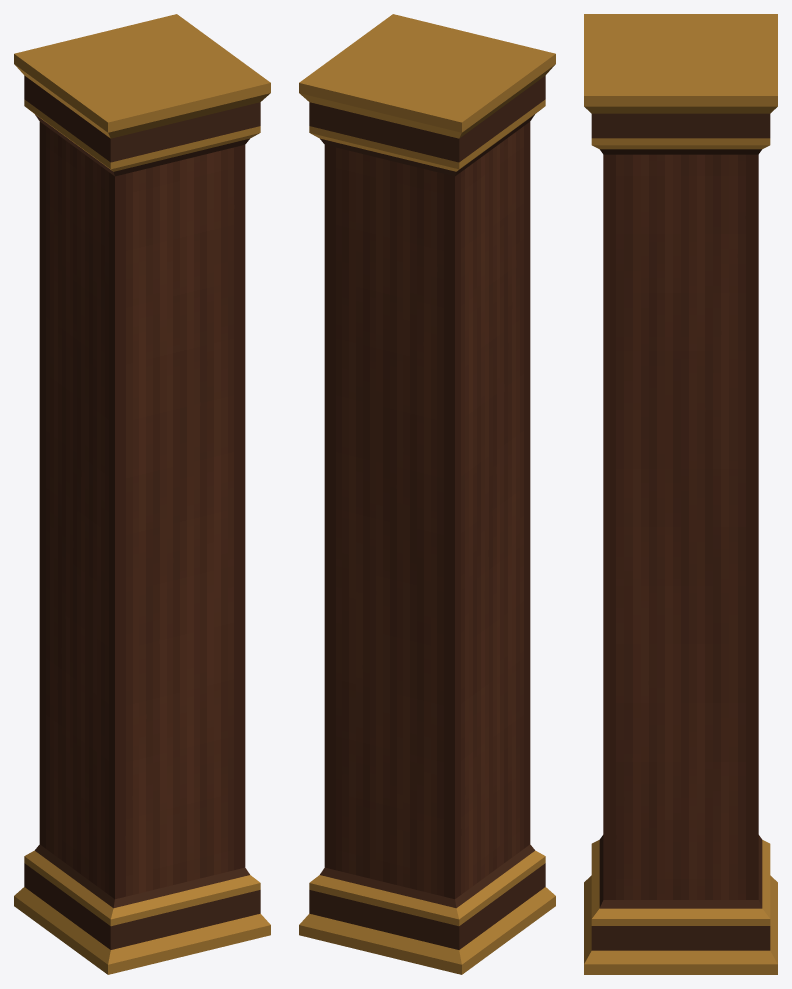
File: wooden_support_column.gltf
The picture shows the model from 3 angles, left to right: view 1: azimuth 30°, elevation 25°; view 2: azimuth 150°, elevation 25°; view 3: azimuth 270°, elevation 25°; orthographic projection. The views are drawn at different scales.
Parts seen in each view (by area): view 1: WoodenSupportColumn; view 2: WoodenSupportColumn; view 3: WoodenSupportColumn.
Boxes of the visible parts, box(x1,y1,x2,y2) form: WoodenSupportColumn: box(14, 14, 270, 974); WoodenSupportColumn: box(299, 14, 555, 974); WoodenSupportColumn: box(584, 14, 777, 974).
Bounding box in the file's own units: 1 × 5 × 1.
1 material, 1 textured.
